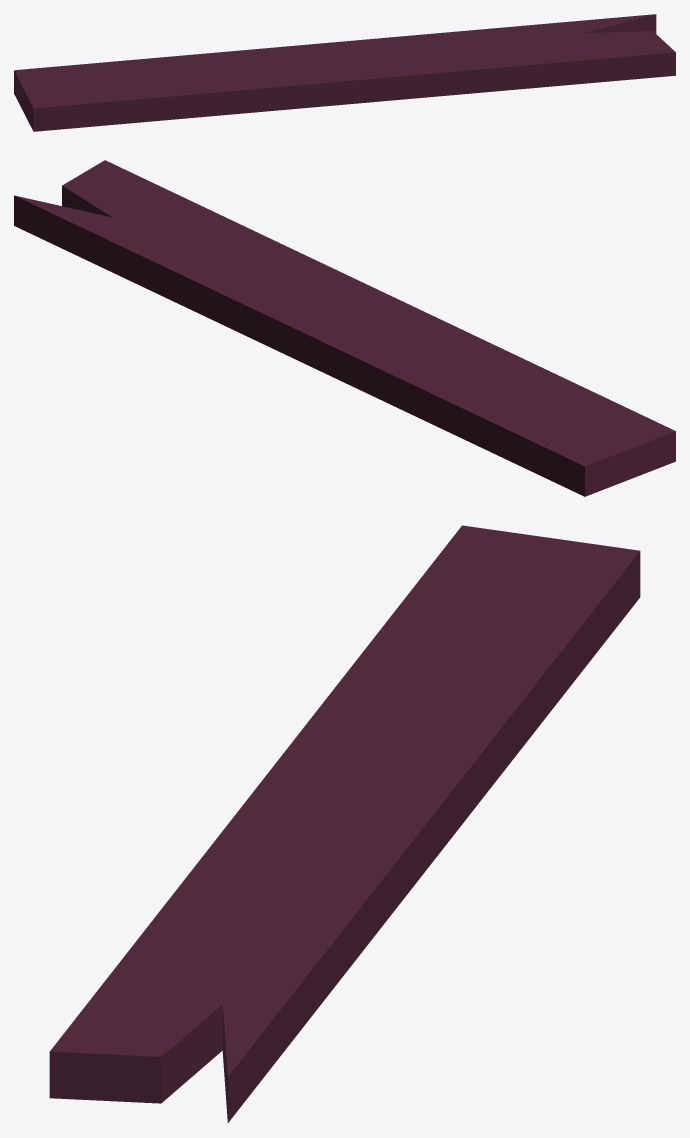
The model's file is plank_002_grp.fbx.
The picture shows the model from 3 angles, top to bottom: view 1: azimuth 30°, elevation 25°; view 2: azimuth 150°, elevation 25°; view 3: azimuth 270°, elevation 25°; orthographic projection. The views are drawn at different scales.
Visible parts, largest first — view 1: plank_002_grp; view 2: plank_002_grp; view 3: plank_002_grp.
Boxes of the visible parts, x1,y1,x2,y2 form: plank_002_grp: (14, 14, 675, 131); plank_002_grp: (14, 160, 675, 496); plank_002_grp: (49, 525, 640, 1122).
Size of the model in its own units: 795 by 32 by 360.
